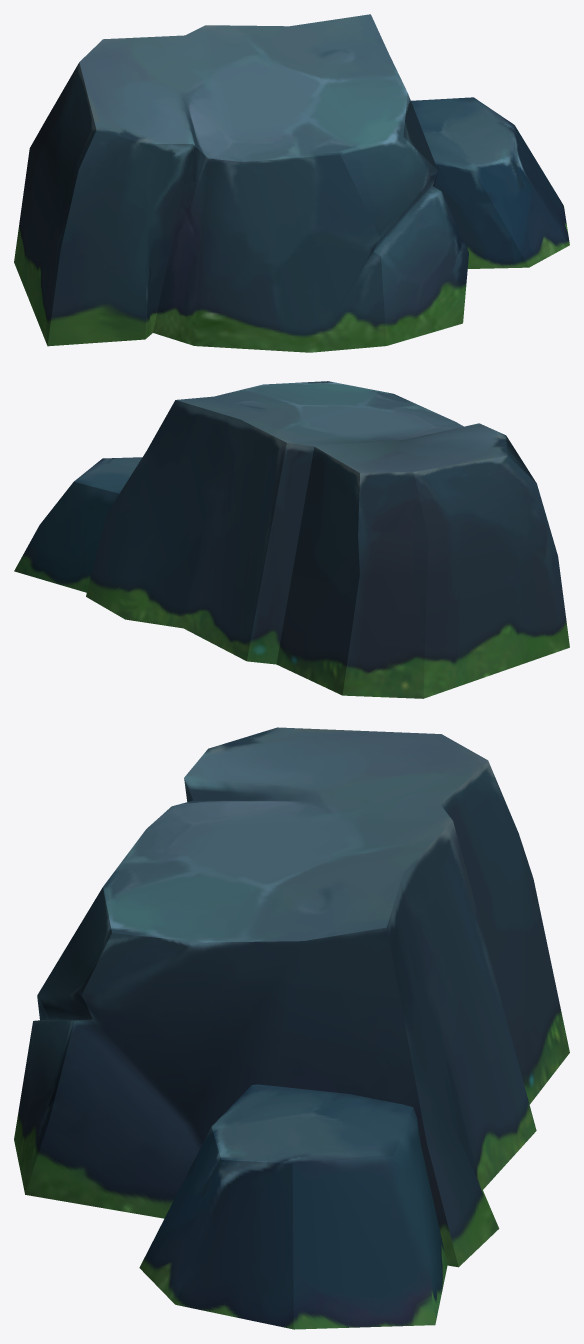
Rendered from sucai_08.FBX.
3 renders of one model, top to bottom at view 1: azimuth 30°, elevation 25°; view 2: azimuth 150°, elevation 25°; view 3: azimuth 270°, elevation 25°, orthographic. The views are drawn at different scales.
Visible parts, largest first — view 1: sucai_08; view 2: sucai_08; view 3: sucai_08.
Boxes of the visible parts, <box> form: sucai_08: <box>14,14,569,352</box>; sucai_08: <box>14,381,569,698</box>; sucai_08: <box>14,727,569,1329</box>.
Bounding box in the file's own units: 327 × 125 × 210.
